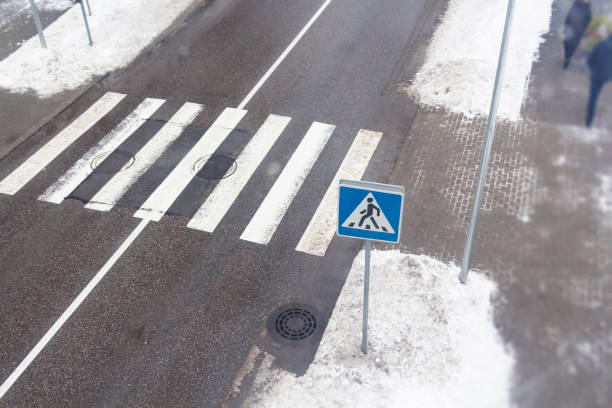yaya_gecidi: (338, 182, 403, 244)
